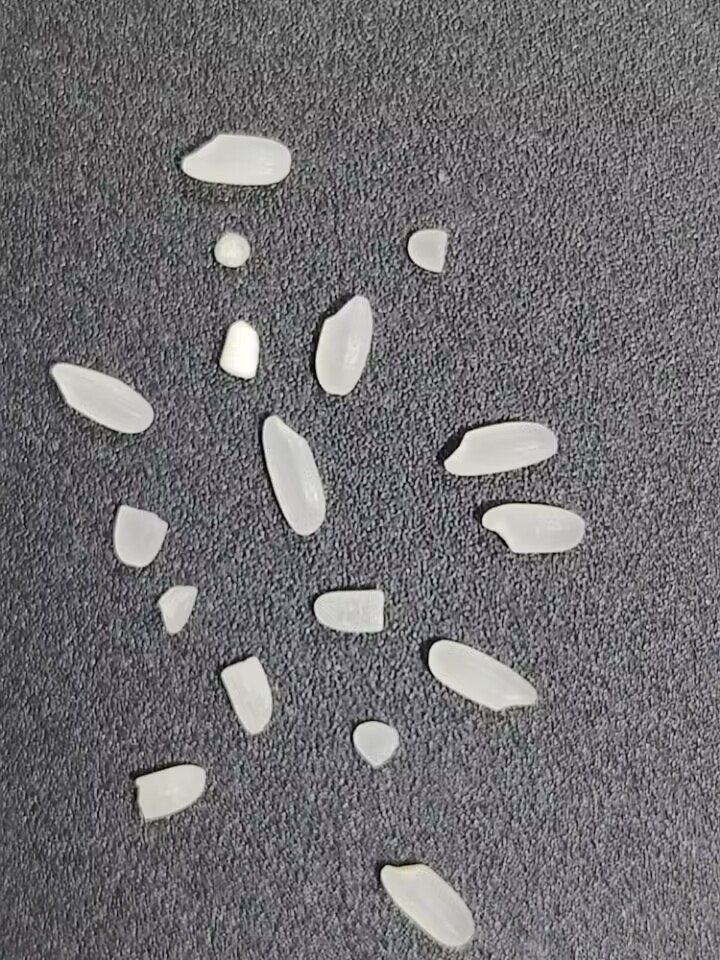broken: (216, 655, 276, 737), (132, 763, 208, 822), (109, 502, 170, 570), (311, 588, 385, 636), (217, 318, 262, 385), (153, 583, 200, 637), (350, 719, 402, 767), (404, 226, 451, 275), (212, 232, 251, 270)
rice: (258, 413, 328, 537), (45, 359, 156, 437), (379, 863, 476, 948), (428, 640, 538, 710), (441, 419, 562, 477), (179, 132, 293, 188), (315, 293, 374, 397), (480, 501, 587, 555)
